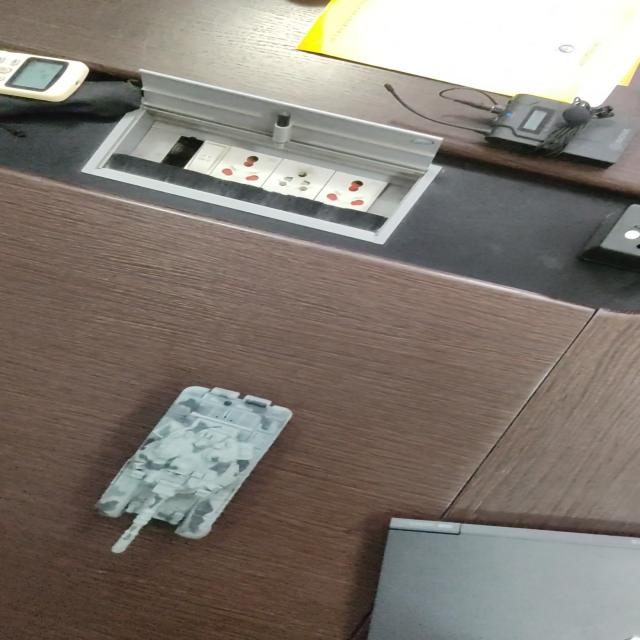tank: (94, 387, 292, 555)
